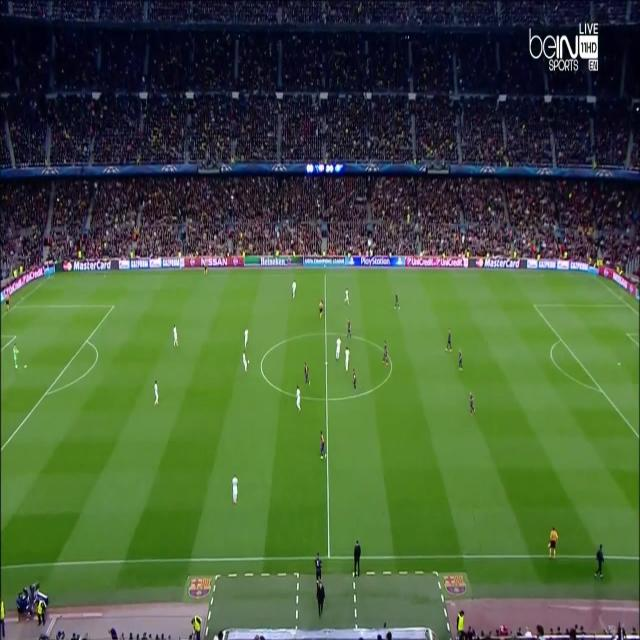Goalkeeper: (10, 341, 22, 373)
Player: (318, 427, 328, 466), (230, 474, 240, 507), (334, 334, 344, 366), (443, 326, 454, 355), (380, 338, 390, 367), (169, 323, 180, 349), (467, 390, 477, 417), (303, 360, 312, 388), (295, 384, 303, 414), (344, 316, 353, 342), (343, 344, 350, 376), (152, 379, 160, 406), (392, 291, 402, 311), (342, 286, 351, 308), (457, 350, 465, 374), (241, 348, 248, 374), (351, 365, 358, 391), (243, 325, 250, 350), (292, 277, 298, 301)
Referee: (546, 523, 560, 561), (318, 295, 324, 322)
